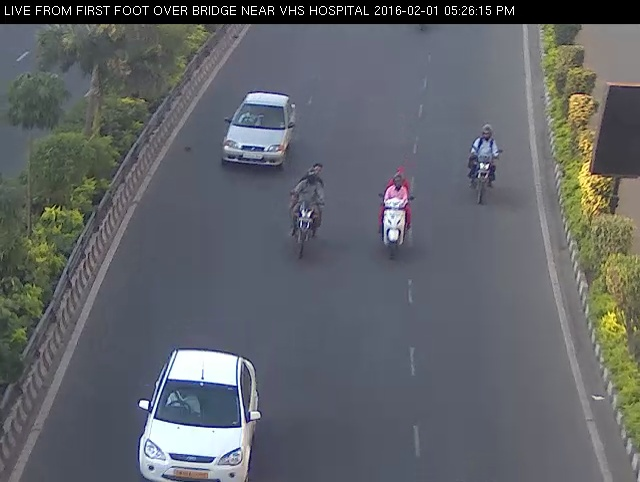Car: (130, 337, 268, 482), (213, 80, 303, 178)
Person: (271, 159, 335, 265), (365, 163, 424, 265), (463, 112, 505, 214)
